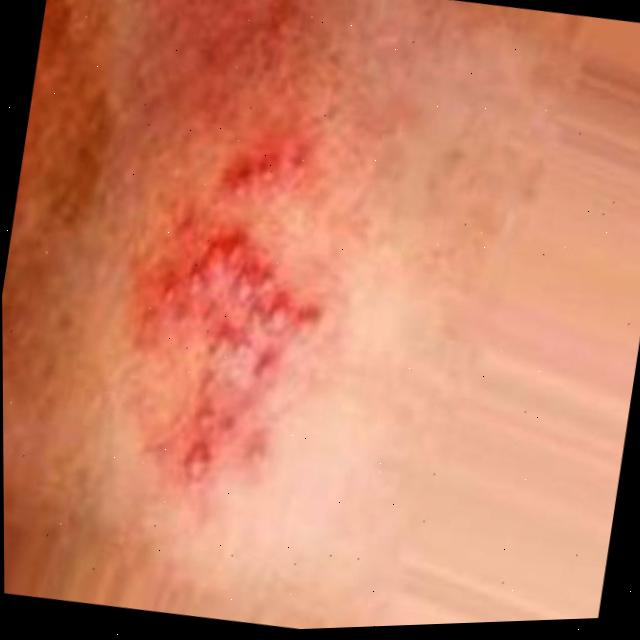Shingles: (137, 123, 347, 515)
